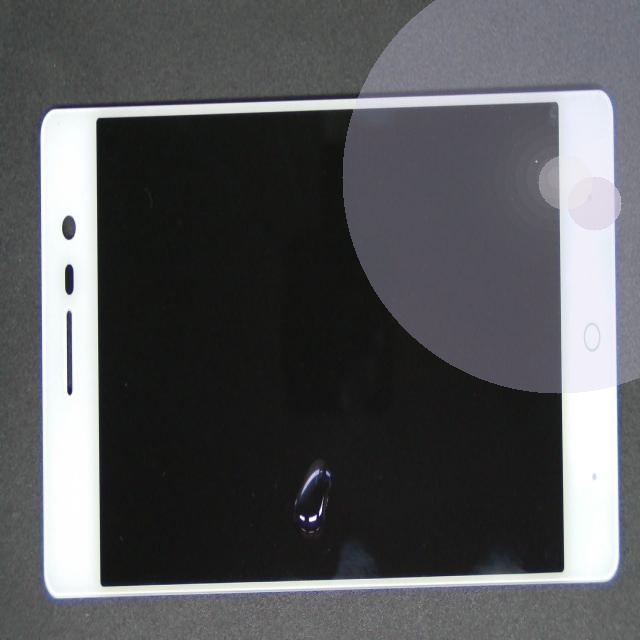oil: (184, 238, 501, 640)
